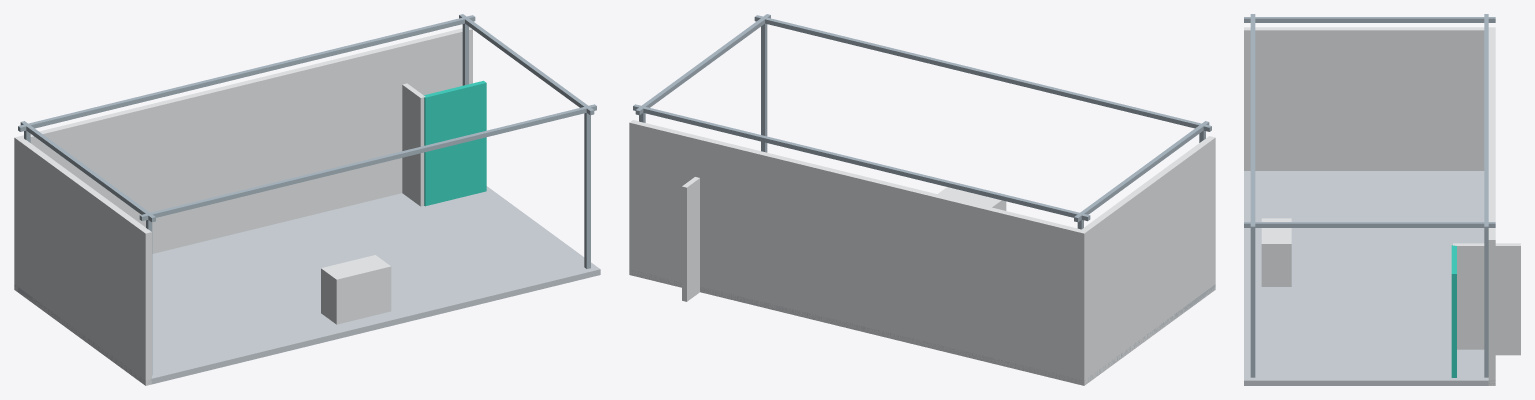
The picture shows the model from 3 angles, left to right: view 1: azimuth 30°, elevation 25°; view 2: azimuth 150°, elevation 25°; view 3: azimuth 270°, elevation 25°; orthographic projection. The views are drawn at different scales.
Parts seen in each view (by area): view 1: Exhibition Booth Concept; view 2: Exhibition Booth Concept; view 3: Exhibition Booth Concept.
Boxes of the visible parts, box(x1,y1,x2,y2) form: Exhibition Booth Concept: box(14, 14, 600, 385); Exhibition Booth Concept: box(629, 14, 1215, 385); Exhibition Booth Concept: box(1244, 14, 1520, 385).
Bounding box in the file's own units: 10 × 3.49 × 5.51.
